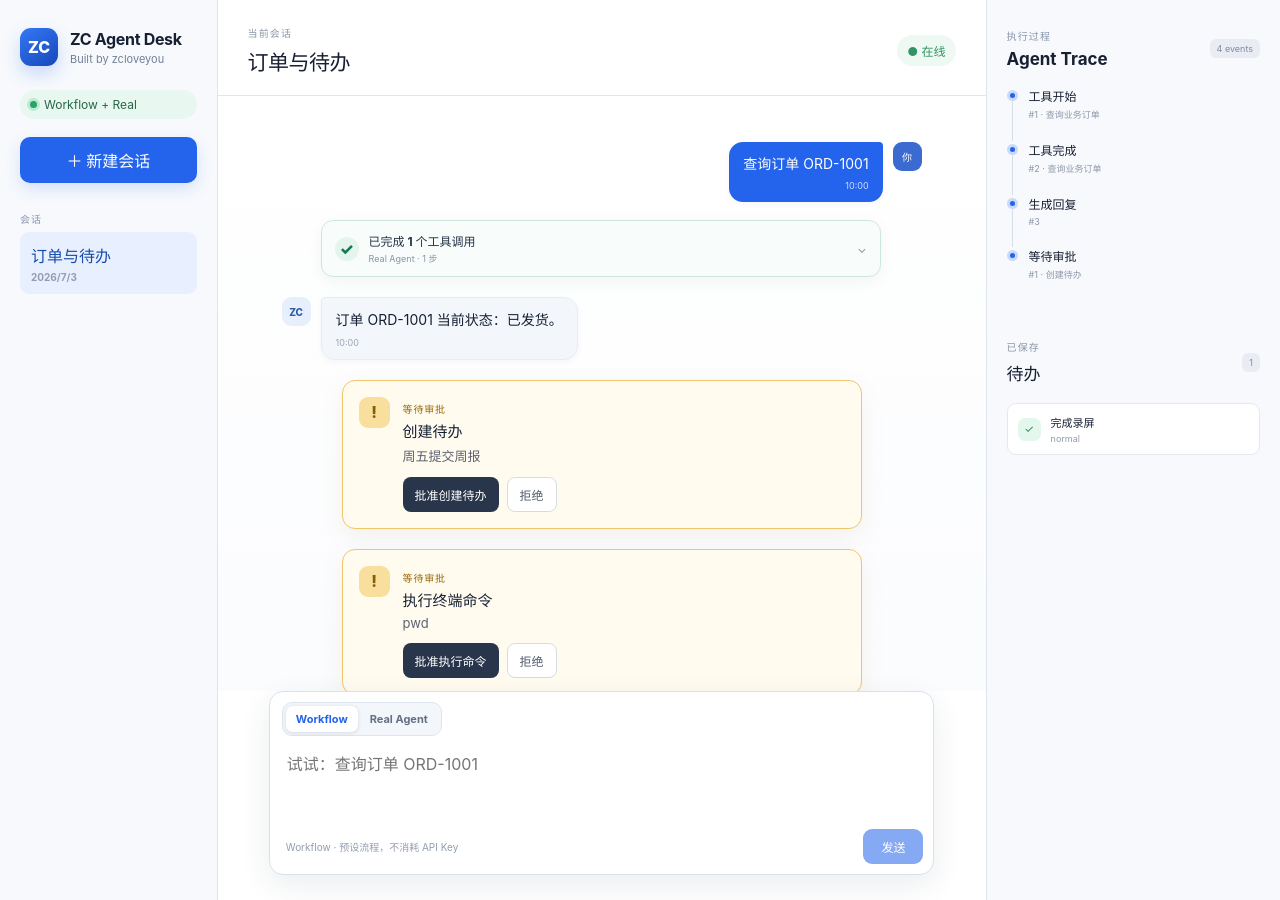
renders a streamed tool event before the run completes
expect the text "ZC Agent Desk" is shown: met, box [70, 28, 182, 48]
Type "创建待办：检查录屏" into the text box named "发送消息" at (602, 776), box [270, 736, 933, 817]
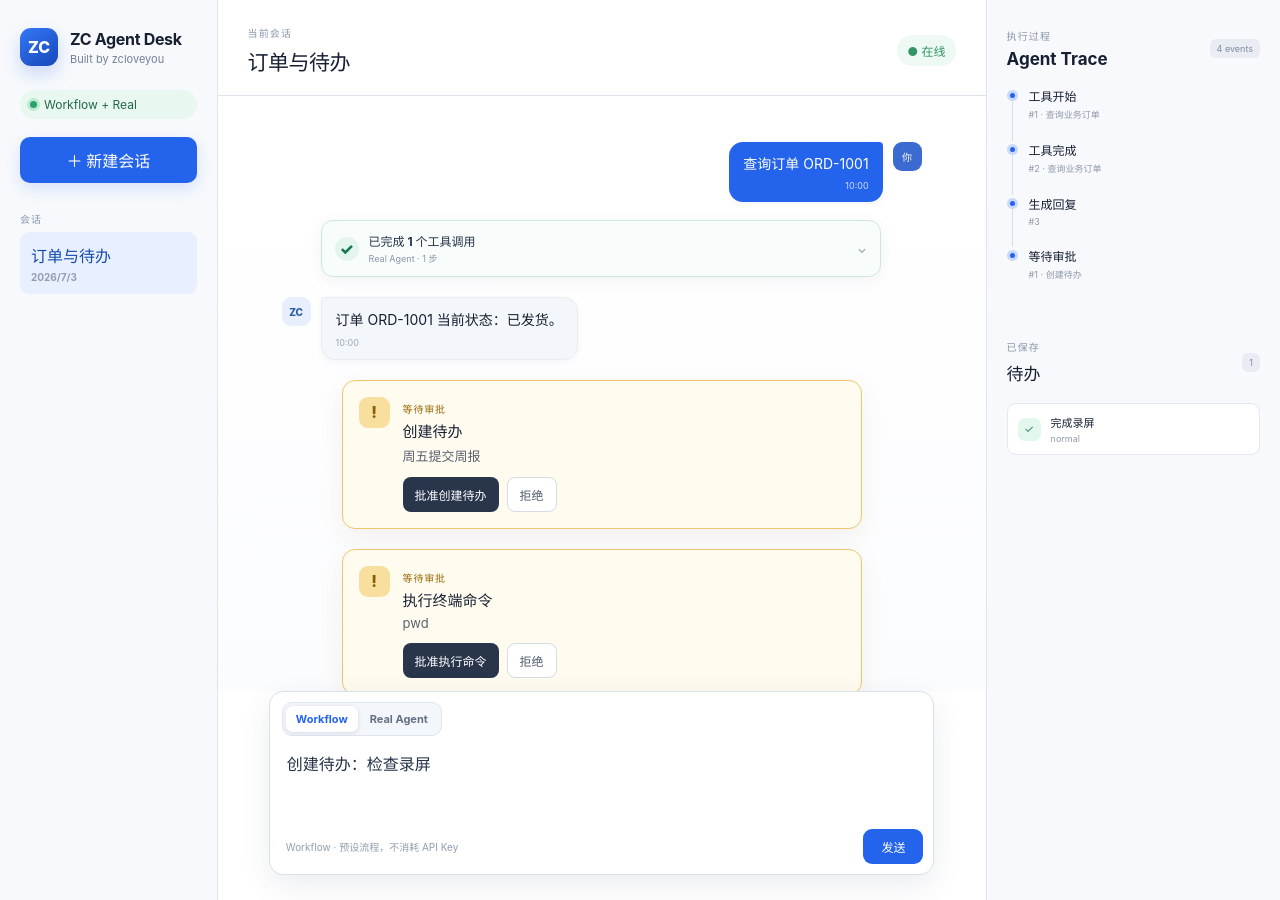
Click the button "发送" at (893, 846), box [863, 829, 923, 864]
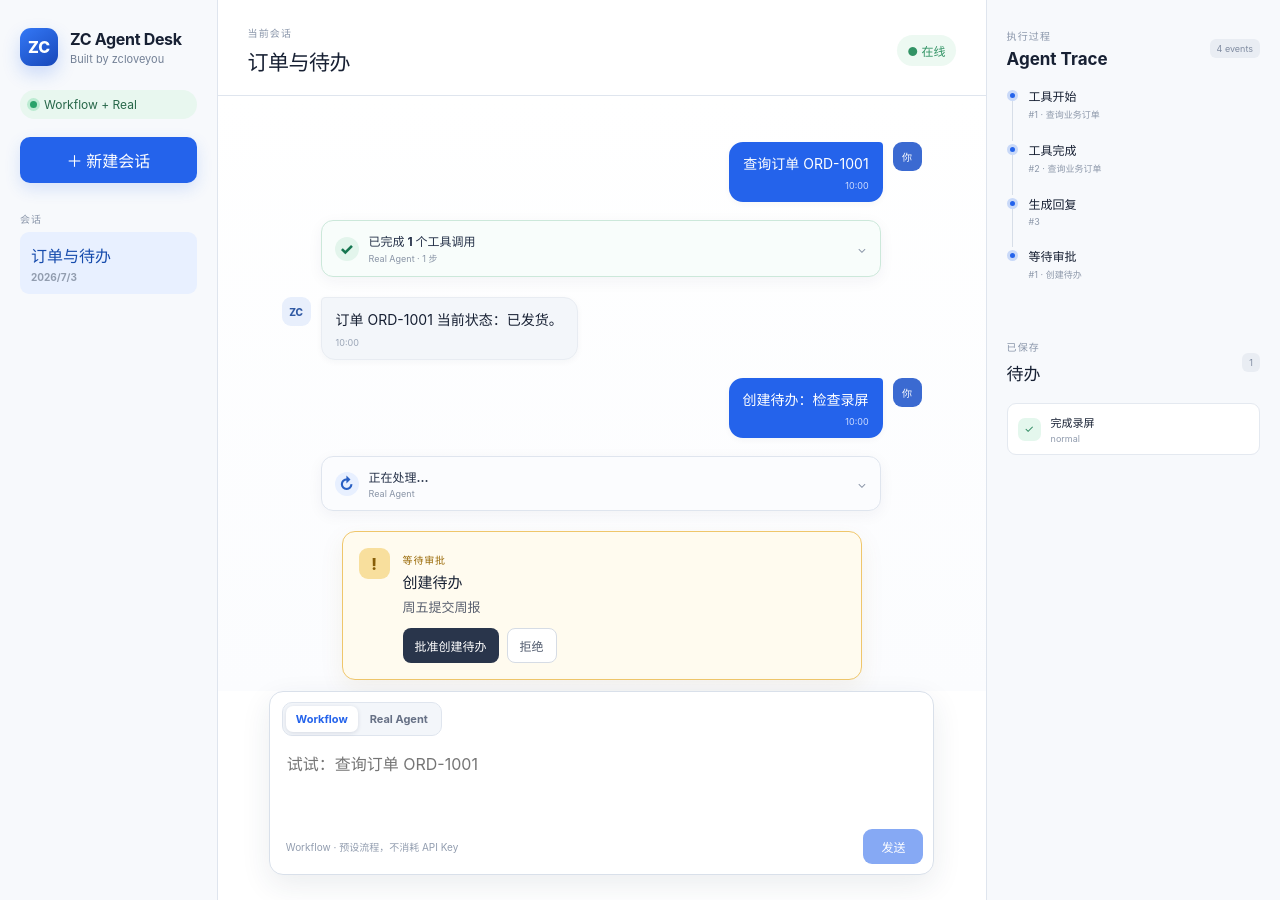
expect the button named "正在调用 创建待办" is shown: met, box [322, 457, 880, 510]
